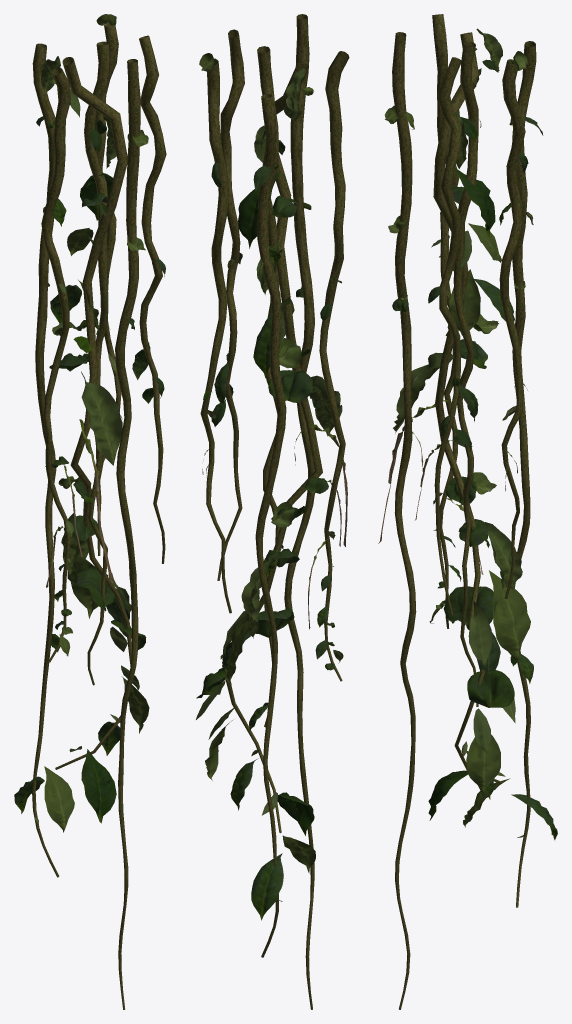
Rendered from SM_Vine_E.fbx.
The picture shows the model from 3 angles, left to right: view 1: azimuth 30°, elevation 25°; view 2: azimuth 150°, elevation 25°; view 3: azimuth 270°, elevation 25°; orthographic projection. The views are drawn at different scales.
Visible parts, largest first — view 1: SM_Vine_E_LOD0; view 2: SM_Vine_E_LOD0; view 3: SM_Vine_E_LOD0.
Boxes of the visible parts, box(x1,y1,x2,y2) form: SM_Vine_E_LOD0: box(14, 14, 166, 1009); SM_Vine_E_LOD0: box(196, 14, 349, 1009); SM_Vine_E_LOD0: box(378, 14, 557, 1009).
Size of the model in its own units: 69.34 by 86.8 by 522.
